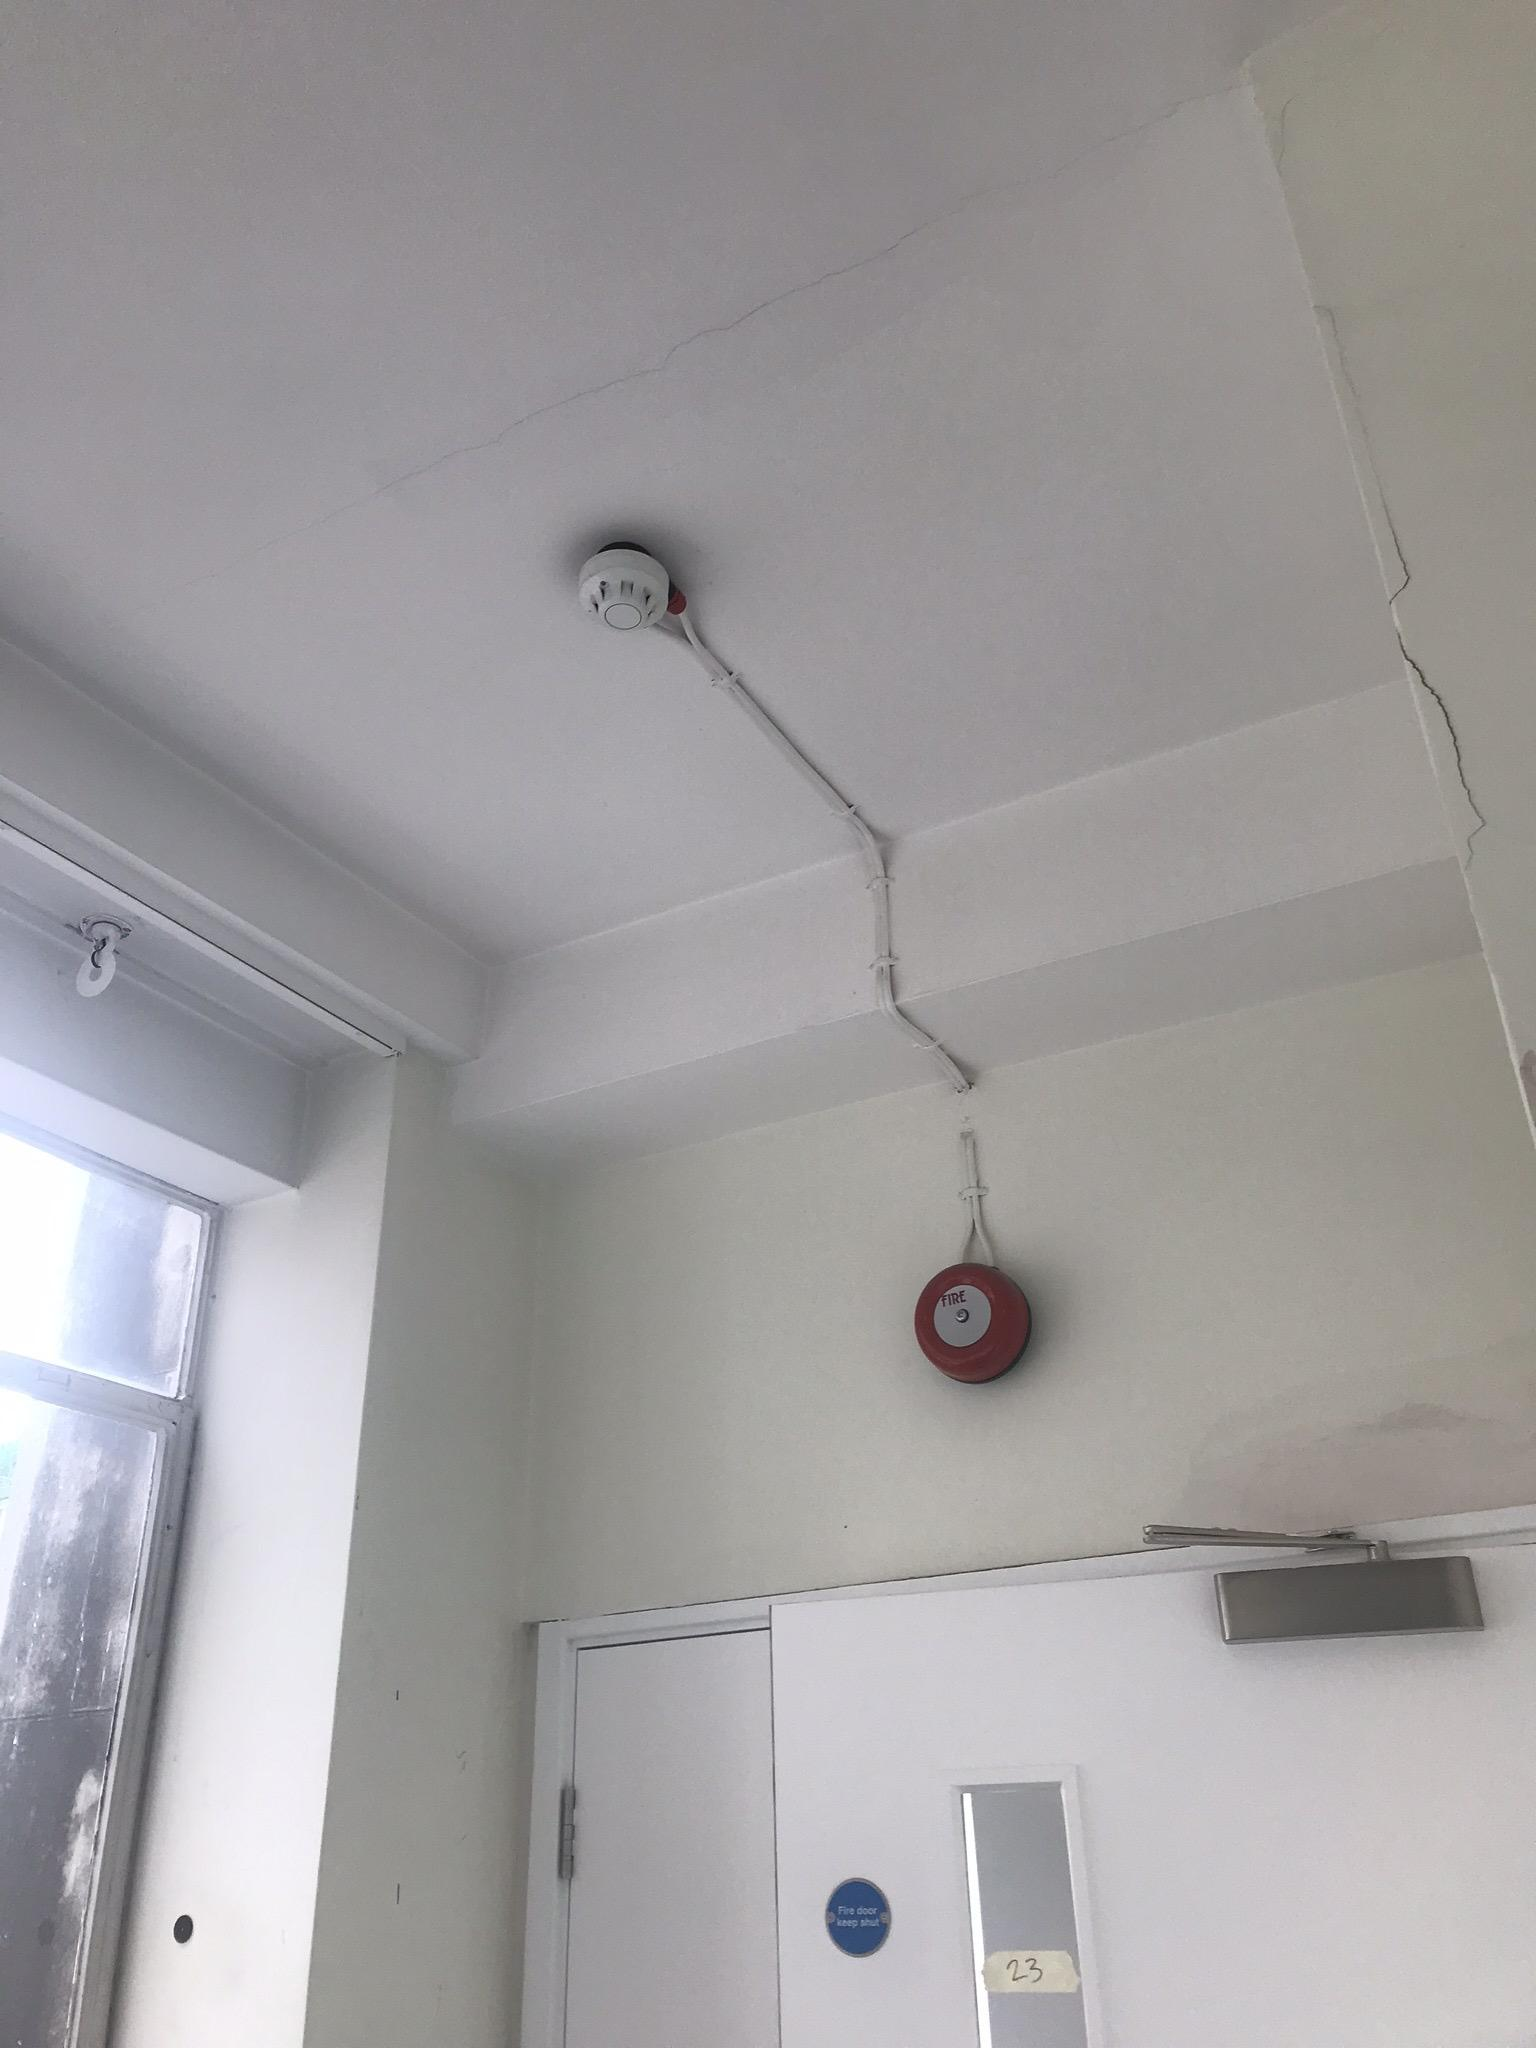detector: (578, 548, 670, 634)
